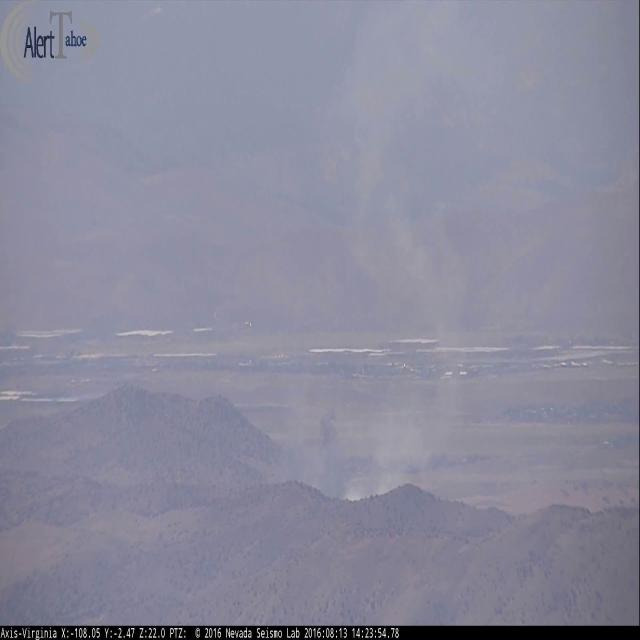smoke: (267, 5, 466, 503)
